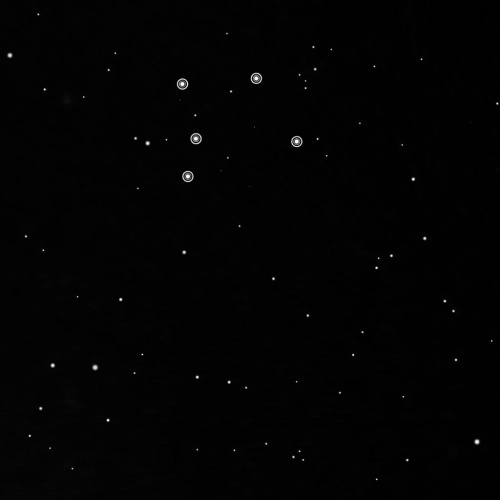libra: (171, 67, 309, 186)
